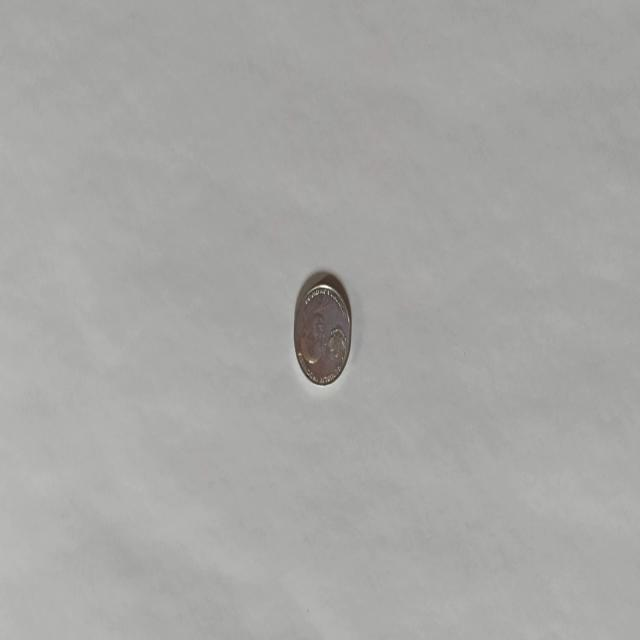lima ratus rupiah: (293, 276, 352, 386)
